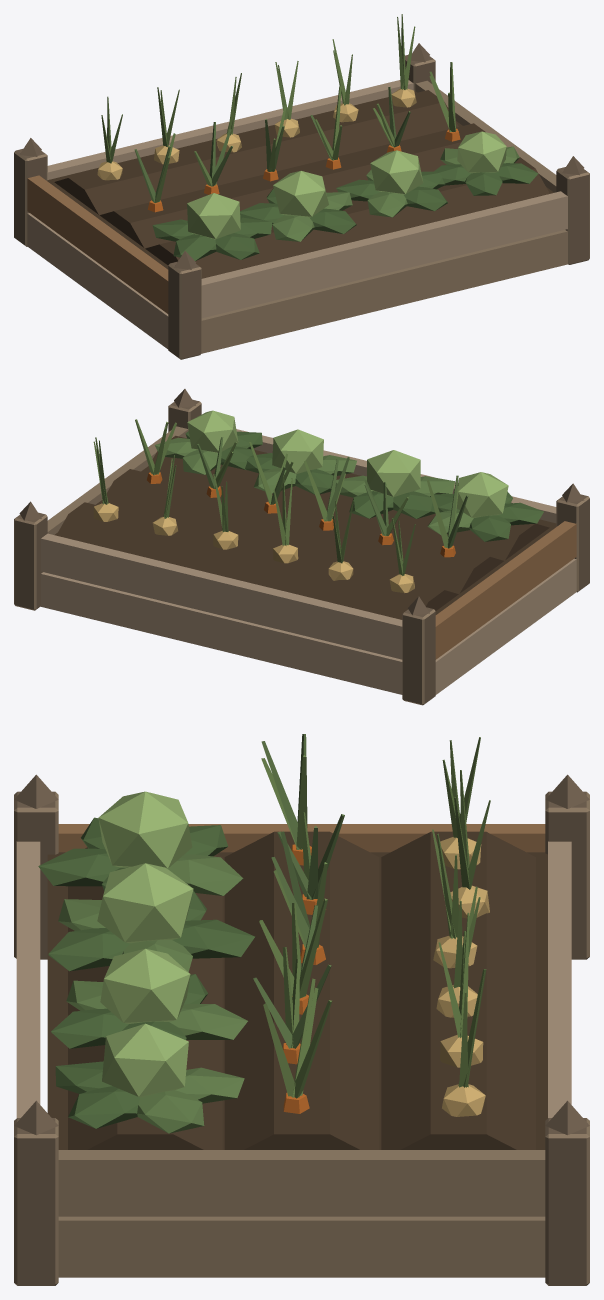
File: garden_bed.glb
3 views of the same model, one above another, from view 1: azimuth 30°, elevation 25°; view 2: azimuth 150°, elevation 25°; view 3: azimuth 270°, elevation 25° (orthographic). The views are drawn at different scales.
Visible parts, largest first — view 1: Garden_Bed; view 2: Garden_Bed; view 3: Garden_Bed.
Part boxes in pixels (x1,y1,x2,y2): Garden_Bed: (14, 14, 589, 359); Garden_Bed: (14, 389, 589, 705); Garden_Bed: (14, 734, 589, 1285).
Size of the model in its own units: 1.46 by 0.5416 by 1.03.
